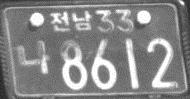1: (122, 36, 141, 91)
2: (147, 36, 179, 89)
3: (113, 8, 135, 35), (94, 9, 116, 35)
6: (90, 38, 118, 89)
8: (58, 38, 89, 91)
나: (16, 39, 51, 75)
전남_O: (48, 9, 92, 32)
